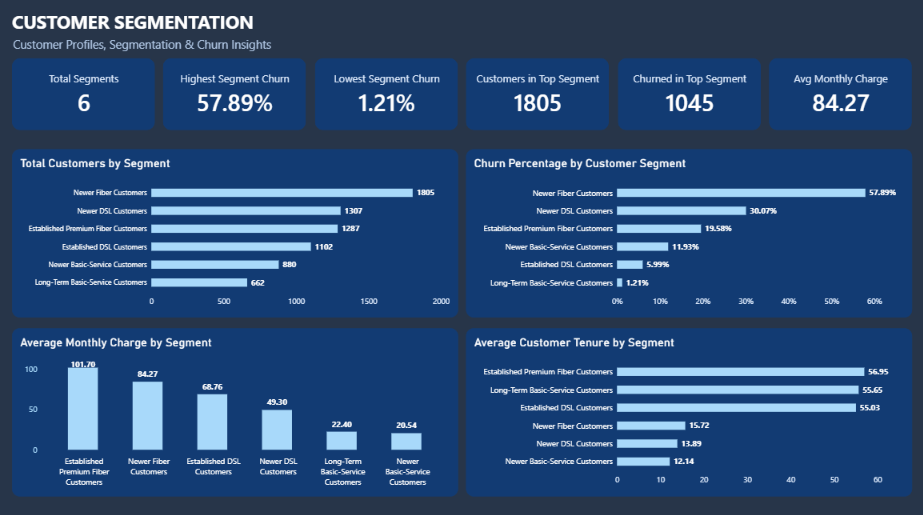

The dashboard page shown, as its layout file describes it:
{"tool":"powerbi","page":{"name":"Customer Segmentation","canvas":[1920,1080],"ordinal":1},"visuals":[{"type":"textbox","box":[32,28,1000,56],"z":0},{"type":"textbox","box":[34,85,1000,35],"z":1},{"type":"cardVisual","fields":{"Data":["customer_segments.Total Segments"]},"box":[32,130,294,148],"z":2},{"type":"cardVisual","fields":{"Data":["customer_segments.Highest Segment Churn Rate"]},"box":[344,130,294,148],"z":3},{"type":"cardVisual","fields":{"Data":["customer_segments.Lowest Segment Churn Rate"]},"box":[656,130,294,148],"z":4},{"type":"cardVisual","fields":{"Data":["customer_segments.Customers in Highest Churn Segment"]},"box":[968,130,294,148],"z":5},{"type":"cardVisual","fields":{"Data":["customer_segments.Churned in Highest Churn Segment"]},"box":[1280,130,294,148],"z":6},{"type":"cardVisual","fields":{"Data":["customer_segments.Avg Charge Highest Churn Segment"]},"box":[1592,130,294,148],"z":7},{"type":"clusteredBarChart","title":"Total Customers by Segment","fields":{"Category":["customer_segments.Segment"],"Y":["CRM_Customers.Total Customers"]},"box":[32,318,918,346],"z":8},{"type":"clusteredBarChart","title":"Churn Percentage by Customer Segment","fields":{"Category":["customer_segments.Segment"],"Y":["CRM_Customers.Churn Percentage"]},"box":[968,318,918,346],"z":9},{"type":"clusteredColumnChart","title":"Average Monthly Charge by Segment","fields":{"Category":["customer_segments.Segment"],"Y":["customer_segments.Avg Charge Highest Churn Segment"]},"box":[32,686,918,346],"z":10},{"type":"clusteredBarChart","title":"Average Customer Tenure by Segment","fields":{"Category":["customer_segments.Segment"],"Y":["CRM_Customers.Average Tenure"]},"box":[968,686,918,346],"z":11}]}

Visuals, with their boxes in screenshot pixels (x1, y1, x2, y2), scaled from the page's 1920x1080 canvas onto the 923x515 screenshot:
textbox: {"x1": 15, "y1": 13, "x2": 496, "y2": 40}
textbox: {"x1": 16, "y1": 41, "x2": 497, "y2": 57}
cardVisual - customer_segments.Total Segments: {"x1": 15, "y1": 62, "x2": 157, "y2": 133}
cardVisual - customer_segments.Highest Segment Churn Rate: {"x1": 165, "y1": 62, "x2": 307, "y2": 133}
cardVisual - customer_segments.Lowest Segment Churn Rate: {"x1": 315, "y1": 62, "x2": 457, "y2": 133}
cardVisual - customer_segments.Customers in Highest Churn Segment: {"x1": 465, "y1": 62, "x2": 607, "y2": 133}
cardVisual - customer_segments.Churned in Highest Churn Segment: {"x1": 615, "y1": 62, "x2": 757, "y2": 133}
cardVisual - customer_segments.Avg Charge Highest Churn Segment: {"x1": 765, "y1": 62, "x2": 907, "y2": 133}
"Total Customers by Segment" clusteredBarChart: {"x1": 15, "y1": 152, "x2": 457, "y2": 317}
"Churn Percentage by Customer Segment" clusteredBarChart: {"x1": 465, "y1": 152, "x2": 907, "y2": 317}
"Average Monthly Charge by Segment" clusteredColumnChart: {"x1": 15, "y1": 327, "x2": 457, "y2": 492}
"Average Customer Tenure by Segment" clusteredBarChart: {"x1": 465, "y1": 327, "x2": 907, "y2": 492}
